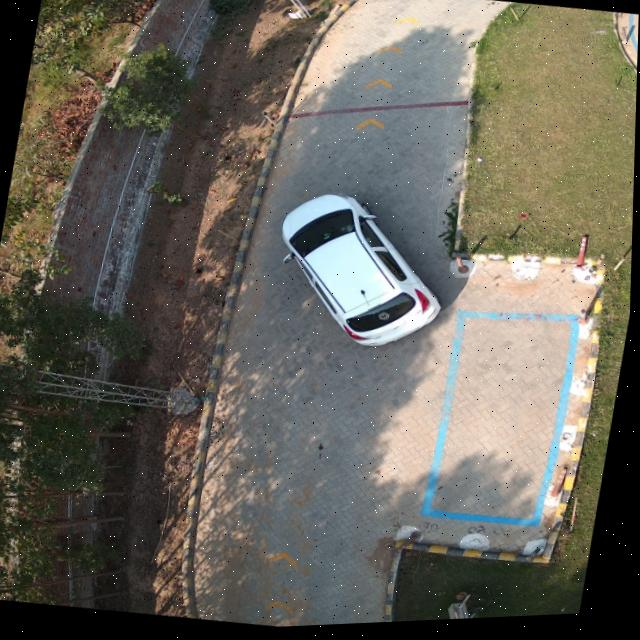car: (283, 196, 443, 349)
